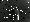person: (13, 8, 19, 20)
